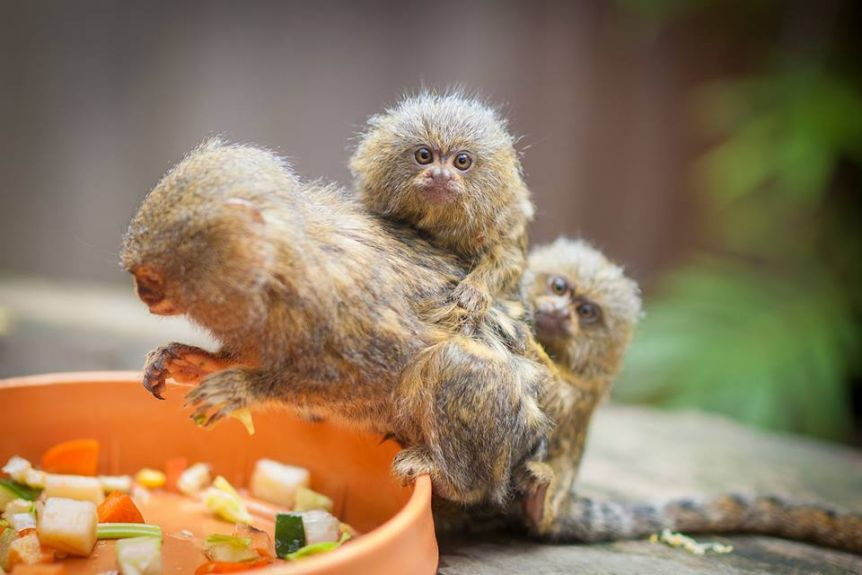PygmyMarmoset: (114, 141, 451, 413), (341, 86, 546, 277), (529, 247, 643, 392)
